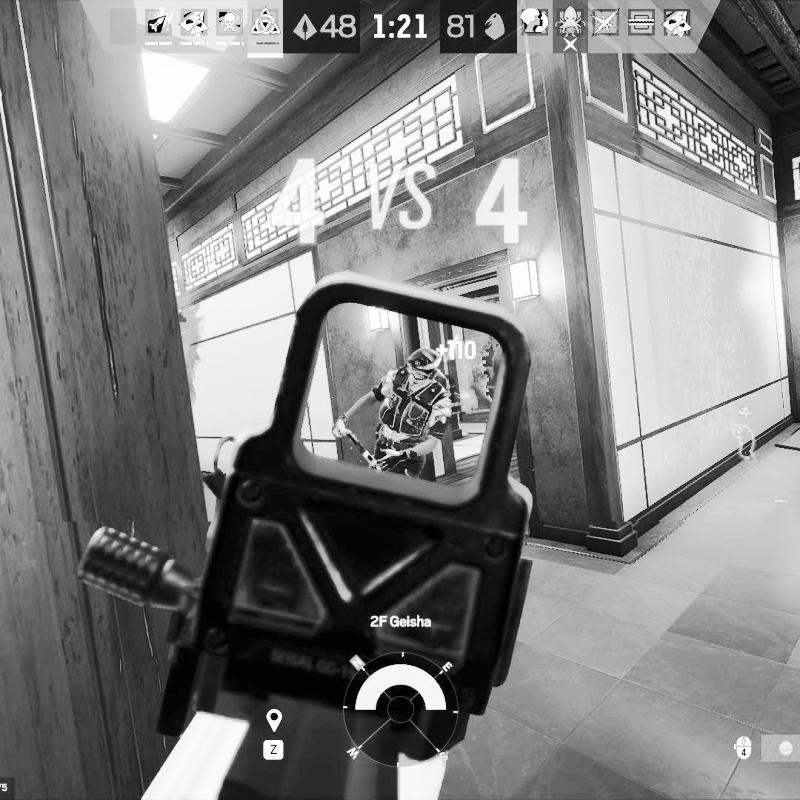Character: (330, 347, 453, 475)
Friend_label: (726, 404, 762, 430)
Head: (406, 347, 442, 388)
